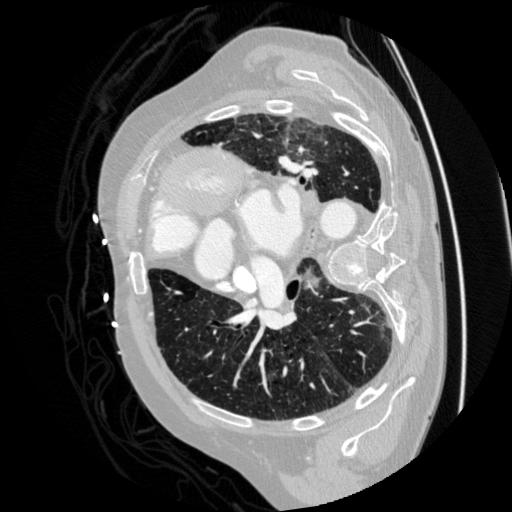nodule: (300, 268, 325, 293)
